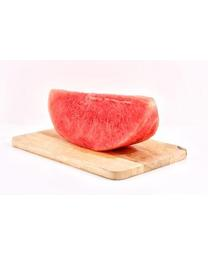watermelon: (44, 85, 161, 150)
